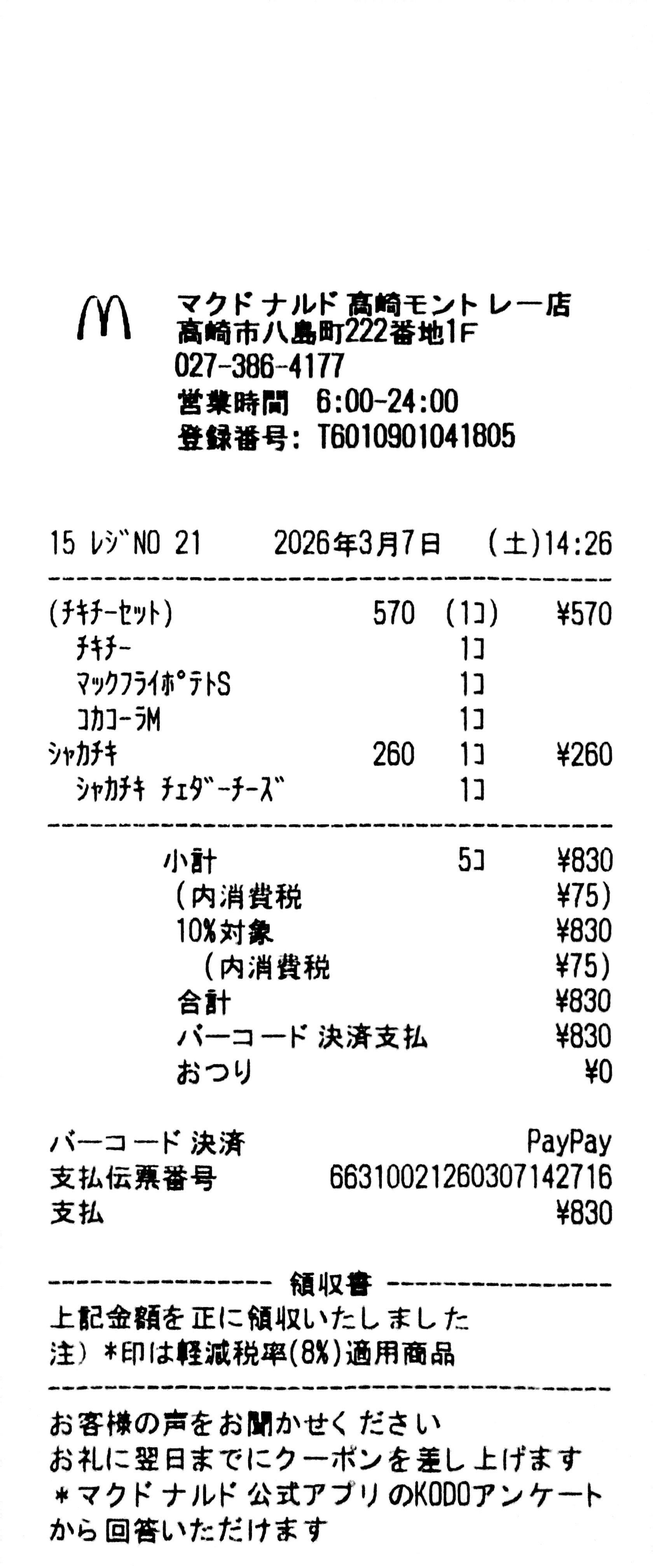Date: (274, 529, 440, 557)
Pay: (178, 988, 611, 1015)
Shopname: (176, 290, 338, 316)
Telnum: (174, 351, 345, 378)
